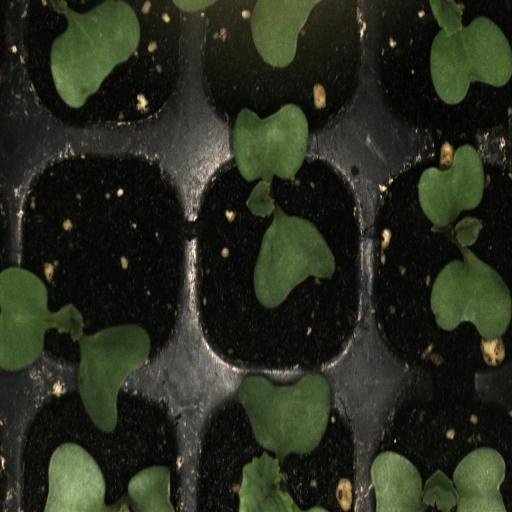Folha: (50, 0, 141, 109), (44, 442, 175, 512), (249, 0, 320, 69)
Germinacao: (11, 136, 194, 386), (193, 132, 368, 378), (365, 134, 512, 380), (191, 379, 365, 512), (365, 381, 512, 512), (371, 0, 512, 135)
